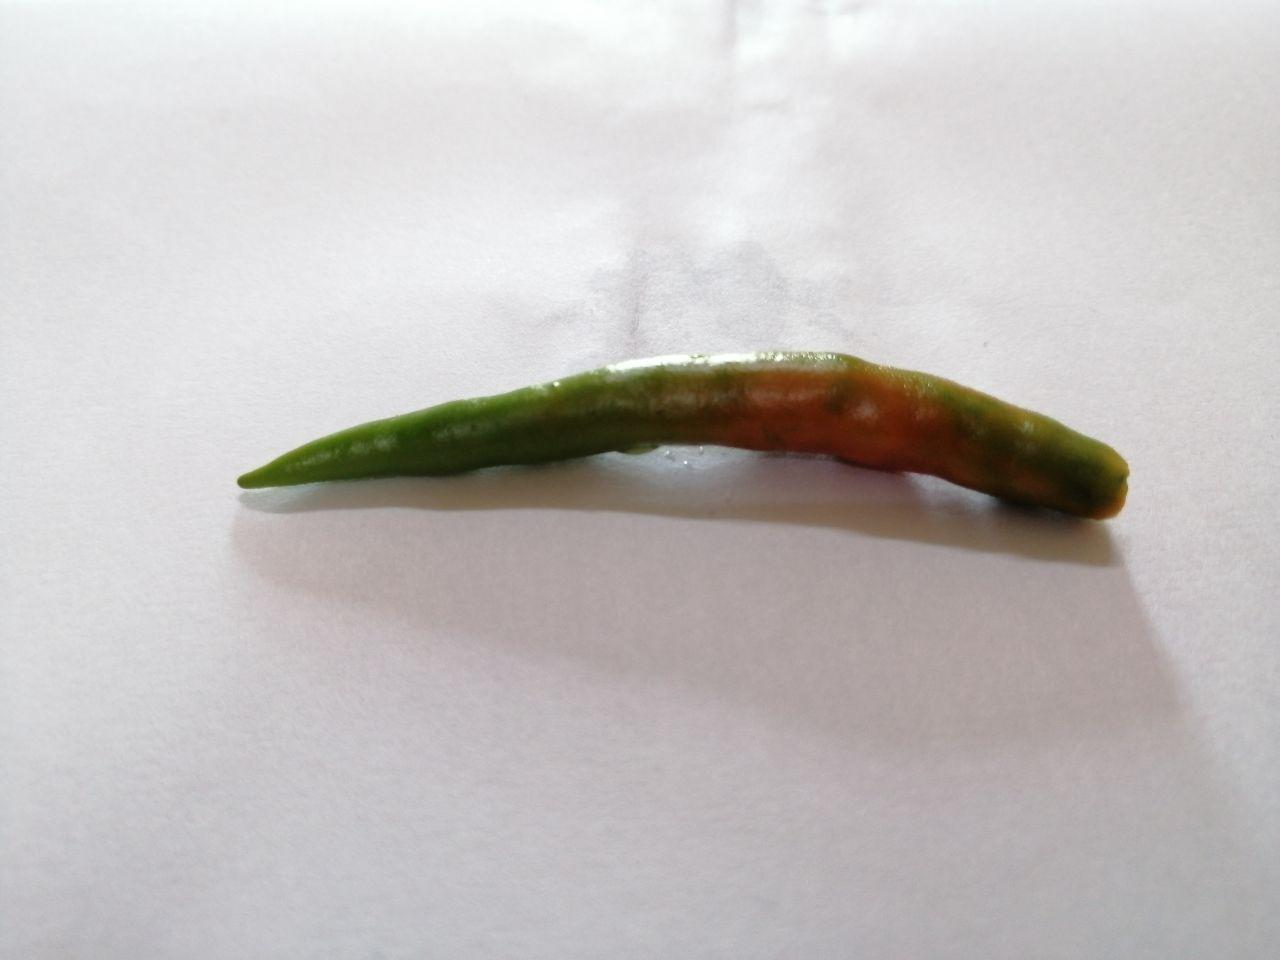lada kuning: (184, 325, 1160, 596)
